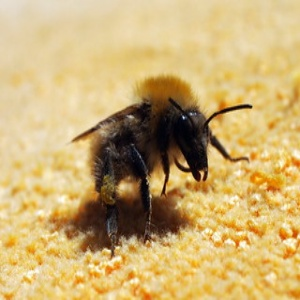bee: (65, 75, 256, 261)
